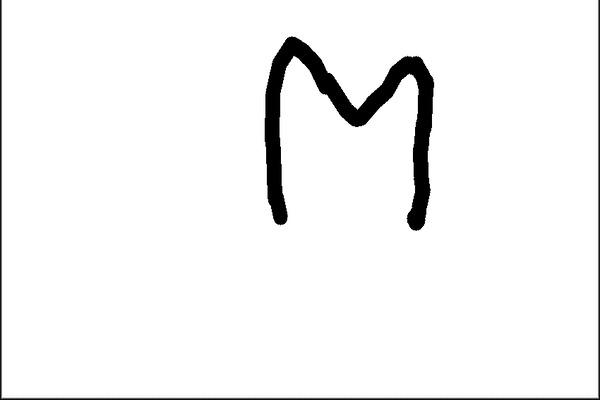M: (259, 34, 434, 240)
